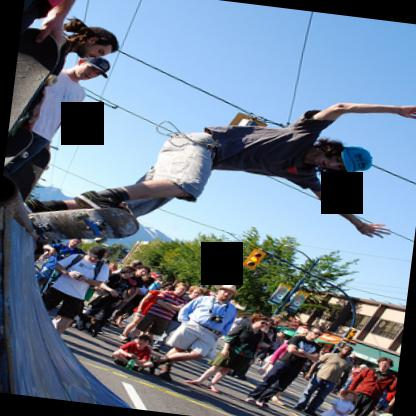backpack: (65, 254, 103, 279)
